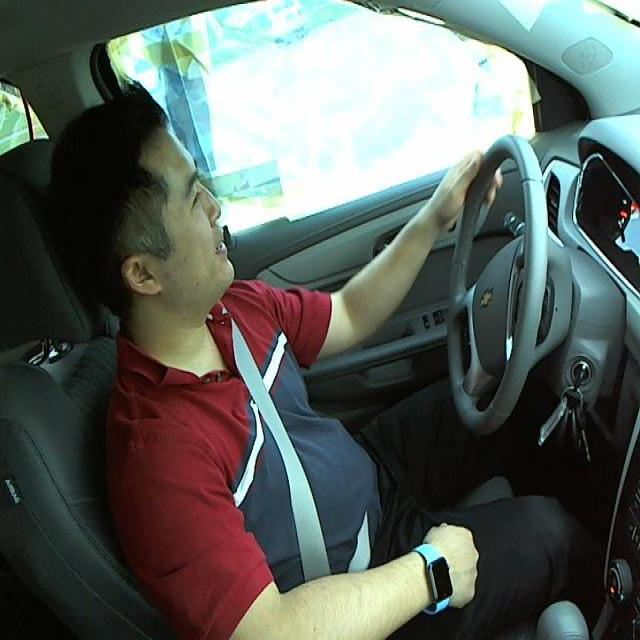seatbelt: (233, 321, 375, 579)
